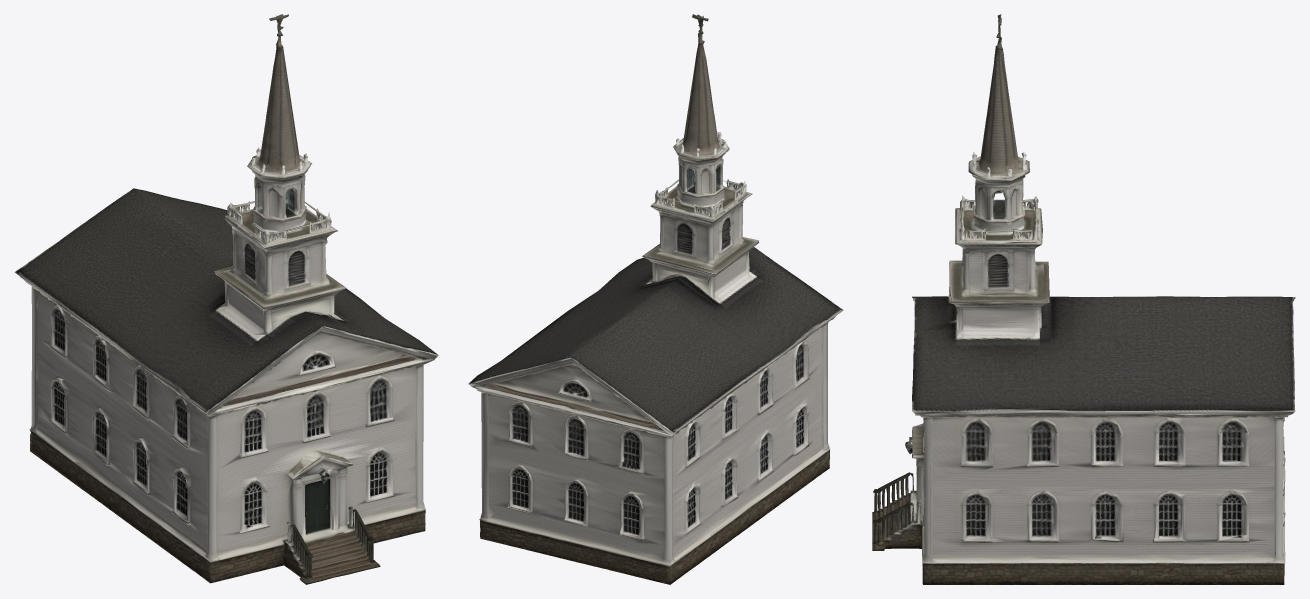
File: tripo_convert_99f6f256-045c-49cb-98b2-cca26136ce78.fbx
3 renders of one model, left to right at view 1: azimuth 30°, elevation 25°; view 2: azimuth 150°, elevation 25°; view 3: azimuth 270°, elevation 25°, orthographic. The views are drawn at different scales.
Visible parts, largest first — view 1: tripo_node_99f6f256; view 2: tripo_node_99f6f256; view 3: tripo_node_99f6f256.
Boxes of the visible parts, x1=… form: tripo_node_99f6f256: x1=14, y1=14, x2=438, y2=584; tripo_node_99f6f256: x1=468, y1=14, x2=843, y2=584; tripo_node_99f6f256: x1=872, y1=14, x2=1295, y2=584.
Size of the model in its own units: 0.4666 by 0.9767 by 0.7266.
Materials: 1 (1 with a texture image).
